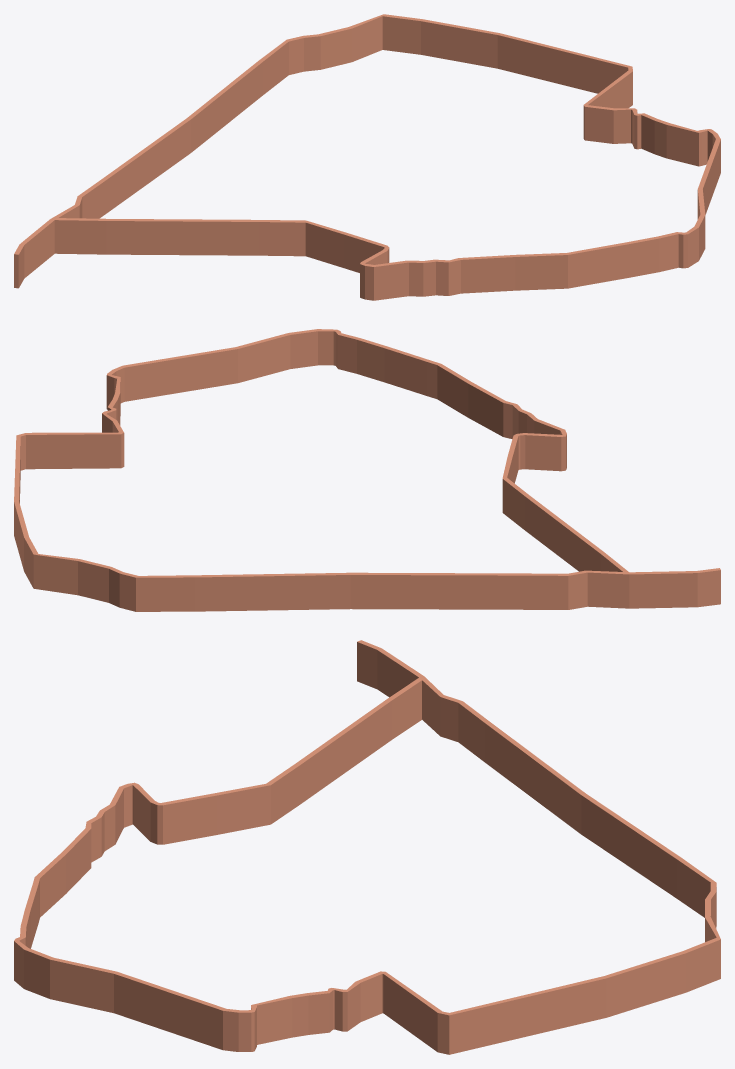
Rendered from walk.glb.
3 renders of one model, top to bottom at view 1: azimuth 30°, elevation 25°; view 2: azimuth 150°, elevation 25°; view 3: azimuth 270°, elevation 25°, orthographic. The views are drawn at different scales.
Parts seen in each view (by area): view 1: walk.061, walk.017, walk.016, walk.009, walk.046, walk.062, walk.045, walk.043, walk.060, walk.007, walk.008, walk.059 (+24 smaller); view 2: walk.009, walk.035, walk.019, walk.008, walk.007, walk.061, walk.010, walk.003, walk.036, walk.006, walk.043, walk.014 (+15 smaller); view 3: walk.017, walk.035, walk.009, walk.061, walk.016, walk.036, walk.019, walk.059, walk.058, walk.008, walk.007, walk.029 (+17 smaller).
Boxes of the visible parts, bbox=[...] form: walk.061: bbox=[106, 219, 259, 255]; walk.017: bbox=[497, 33, 631, 93]; walk.016: bbox=[421, 19, 499, 68]; walk.009: bbox=[187, 61, 262, 152]; walk.046: bbox=[459, 255, 515, 293]; walk.062: bbox=[54, 218, 106, 254]; walk.045: bbox=[515, 253, 567, 290]; walk.043: bbox=[578, 242, 629, 286]; walk.060: bbox=[259, 220, 305, 256]; walk.007: bbox=[102, 148, 148, 213]; walk.008: bbox=[144, 118, 190, 182]; walk.059: bbox=[305, 220, 347, 268]; walk.009: bbox=[195, 572, 350, 611]; walk.035: bbox=[123, 347, 237, 401]; walk.019: bbox=[26, 432, 121, 469]; walk.008: bbox=[350, 572, 435, 609]; walk.007: bbox=[435, 573, 519, 609]; walk.061: bbox=[525, 495, 604, 571]; walk.010: bbox=[136, 575, 194, 611]; walk.003: bbox=[629, 571, 682, 608]; walk.036: bbox=[235, 333, 290, 382]; walk.006: bbox=[520, 573, 568, 609]; walk.043: bbox=[384, 346, 429, 396]; walk.014: bbox=[33, 554, 79, 595]; walk.017: bbox=[449, 976, 606, 1054]; walk.035: bbox=[114, 971, 226, 1049]; walk.009: bbox=[581, 794, 681, 898]; walk.061: bbox=[295, 699, 391, 804]; walk.016: bbox=[604, 951, 685, 1017]; walk.036: bbox=[50, 957, 116, 1013]; walk.019: bbox=[384, 972, 442, 1051]; walk.059: bbox=[214, 784, 270, 834]; walk.058: bbox=[161, 793, 216, 844]; walk.008: bbox=[533, 758, 585, 834]; walk.007: bbox=[485, 722, 537, 797]; walk.029: bbox=[252, 996, 292, 1044].
Size of the model in its own units: 11.69 by 0.5734 by 9.3.
